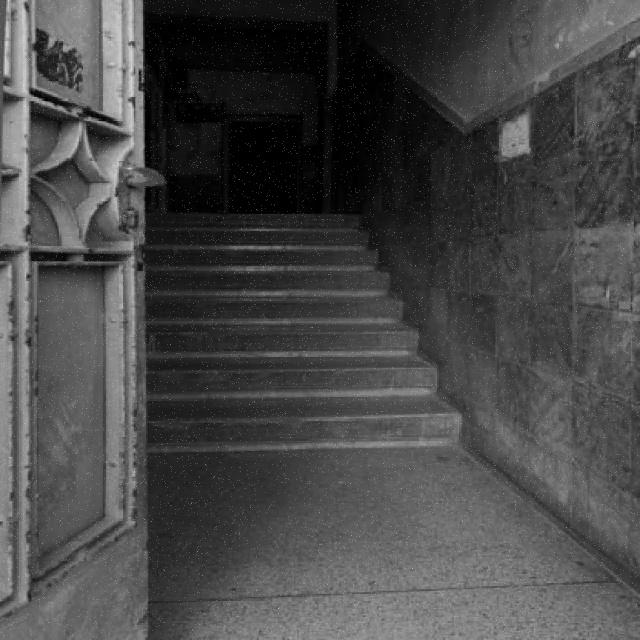stair: (142, 210, 464, 453)
